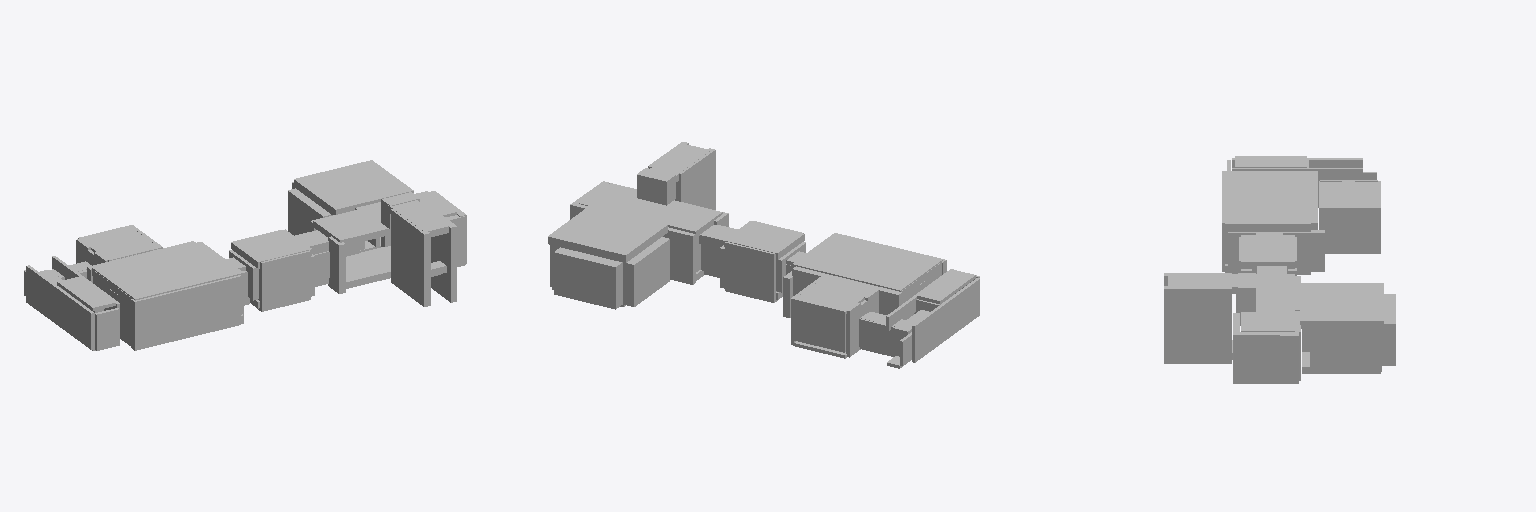
The model's file is castle_dungeon_bBoxes.obj.
The picture shows the model from 3 angles: view 1: azimuth 30°, elevation 25°; view 2: azimuth 150°, elevation 25°; view 3: azimuth 270°, elevation 25°; orthographic projection.
Visible parts, largest first — view 1: Cube.006_Cube.008, Cube.013_Cube.038, Cube.012_Cube.037, Cube.045_Cube.017, Cube.020_Cube.022, Cube.007_Cube.000, Cube.005_Cube.007, Cube.011_Cube.036, Cube.064_Cube.063, Cube.018_Cube.020, Cube.004_Cube.006, Cube.001_Cube.002 (+5 smaller); view 2: Cube.006_Cube.008, Cube.012_Cube.037, Cube.005_Cube.007, Cube.007_Cube.000, Cube.045_Cube.017, Cube.019_Cube.021, Cube.004_Cube.006, Cube.062_Cube.061, Cube.064_Cube.063, Cube.011_Cube.036, Cube.003_Cube.004, Cube.014_Cube.039 (+7 smaller); view 3: Cube.005_Cube.007, Cube.012_Cube.037, Cube.006_Cube.008, Cube.004_Cube.006, Cube.003_Cube.005, Cube.061_Cube.060, Cube.007_Cube.000, Cube.011_Cube.036, Cube.064_Cube.063, Cube.016_Cube.041, Cube.021_Cube.023, Cube.048 (+3 smaller).
Part boxes in pixels (bbox=[...]): Cube.006_Cube.008: bbox=[294, 160, 430, 306]; Cube.013_Cube.038: bbox=[131, 275, 240, 350]; Cube.012_Cube.037: bbox=[92, 242, 243, 300]; Cube.045_Cube.017: bbox=[26, 265, 94, 349]; Cube.020_Cube.022: bbox=[258, 250, 310, 311]; Cube.007_Cube.000: bbox=[313, 192, 456, 245]; Cube.005_Cube.007: bbox=[292, 182, 456, 302]; Cube.011_Cube.036: bbox=[231, 229, 311, 268]; Cube.064_Cube.063: bbox=[78, 226, 159, 261]; Cube.018_Cube.020: bbox=[346, 246, 390, 288]; Cube.004_Cube.006: bbox=[288, 188, 466, 263]; Cube.001_Cube.002: bbox=[295, 215, 465, 266]; Cube.006_Cube.008: bbox=[548, 148, 715, 262]; Cube.012_Cube.037: bbox=[792, 233, 942, 291]; Cube.005_Cube.007: bbox=[554, 142, 688, 309]; Cube.007_Cube.000: bbox=[579, 184, 722, 237]; Cube.045_Cube.017: bbox=[912, 278, 979, 362]; Cube.019_Cube.021: bbox=[725, 242, 777, 302]; Cube.004_Cube.006: bbox=[570, 181, 669, 306]; Cube.062_Cube.061: bbox=[794, 303, 845, 352]; Cube.064_Cube.063: bbox=[793, 277, 874, 314]; Cube.011_Cube.036: bbox=[724, 221, 804, 259]; Cube.003_Cube.004: bbox=[663, 227, 695, 284]; Cube.014_Cube.039: bbox=[792, 266, 901, 314]; Cube.005_Cube.007: bbox=[1164, 286, 1395, 365]; Cube.012_Cube.037: bbox=[1225, 171, 1310, 231]; Cube.006_Cube.008: bbox=[1164, 273, 1383, 328]; Cube.004_Cube.006: bbox=[1234, 332, 1298, 383]; Cube.003_Cube.005: bbox=[1310, 329, 1381, 371]; Cube.061_Cube.060: bbox=[1319, 206, 1380, 253]; Cube.007_Cube.000: bbox=[1241, 274, 1294, 331]; Cube.011_Cube.036: bbox=[1241, 235, 1294, 268]; Cube.064_Cube.063: bbox=[1319, 181, 1380, 205]; Cube.016_Cube.041: bbox=[1283, 230, 1324, 271]; Cube.021_Cube.023: bbox=[1168, 274, 1237, 293]; Cube.048: bbox=[1235, 156, 1306, 167].
Bounding box in the file's own units: 60.74 × 11.66 × 32.42.